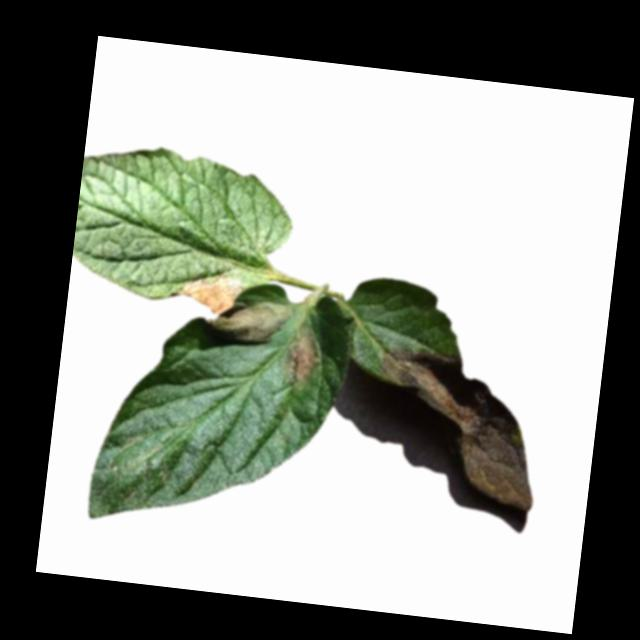Late_blight: (363, 344, 549, 510), (202, 294, 294, 352), (176, 269, 250, 319), (280, 322, 325, 385)
